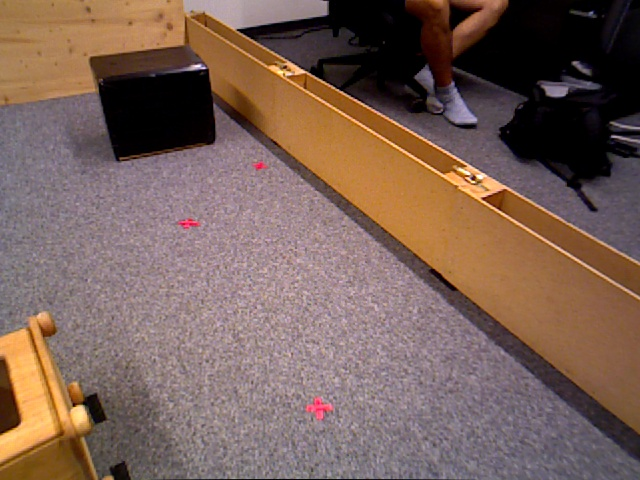push: (90, 53, 214, 160)
